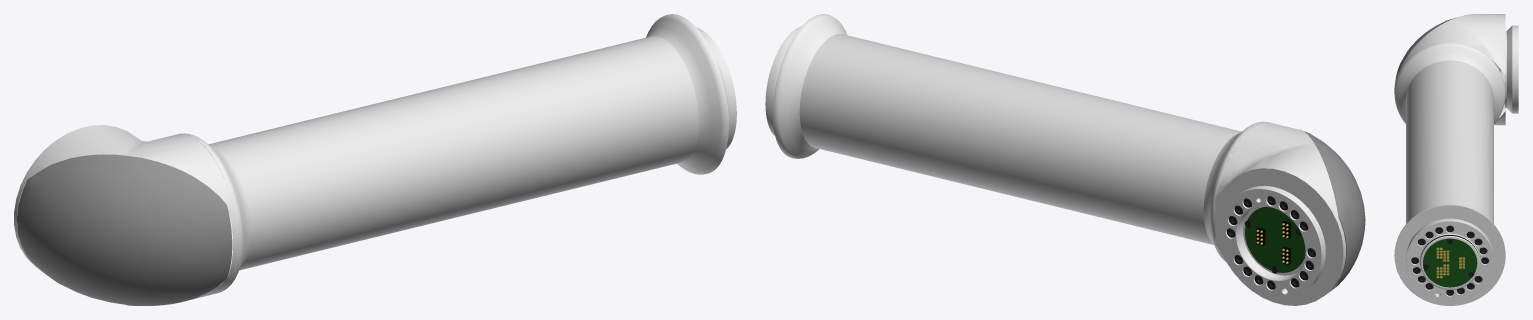
3 views of the same model, side by side, from view 1: azimuth 30°, elevation 25°; view 2: azimuth 150°, elevation 25°; view 3: azimuth 270°, elevation 25° (orthographic). The views are drawn at different scales.
Visible parts, largest first — view 1: L86.001; view 2: L86.001; view 3: L86.001.
Boxes of the visible parts, left/top/right/bottom form: L86.001: left=14, top=14, right=736, bottom=305; L86.001: left=765, top=14, right=1365, bottom=305; L86.001: left=1394, top=14, right=1518, bottom=305.
Size of the model in its own units: 0.3979 by 0.0861 by 0.0961.
